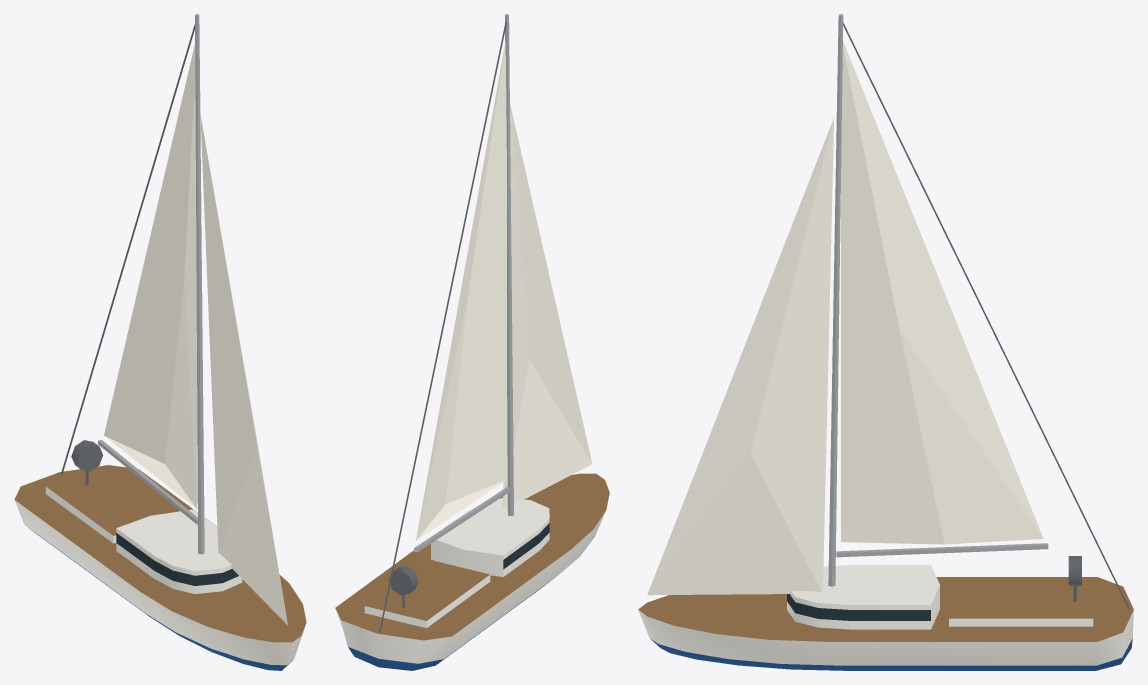
File: sf_sailboat.glb
The picture shows the model from 3 angles, left to right: view 1: azimuth 30°, elevation 25°; view 2: azimuth 150°, elevation 25°; view 3: azimuth 270°, elevation 25°; orthographic projection. The views are drawn at different scales.
Visible parts, largest first — view 1: sf_sailboat; view 2: sf_sailboat; view 3: sf_sailboat.
Part boxes in pixels (x1,y1,x2,y2): sf_sailboat: (14,14,306,670); sf_sailboat: (335,14,609,670); sf_sailboat: (638,14,1133,670).
Bounding box in the file's own units: 3.4 × 15.5 × 11.
1 material, 1 textured.
